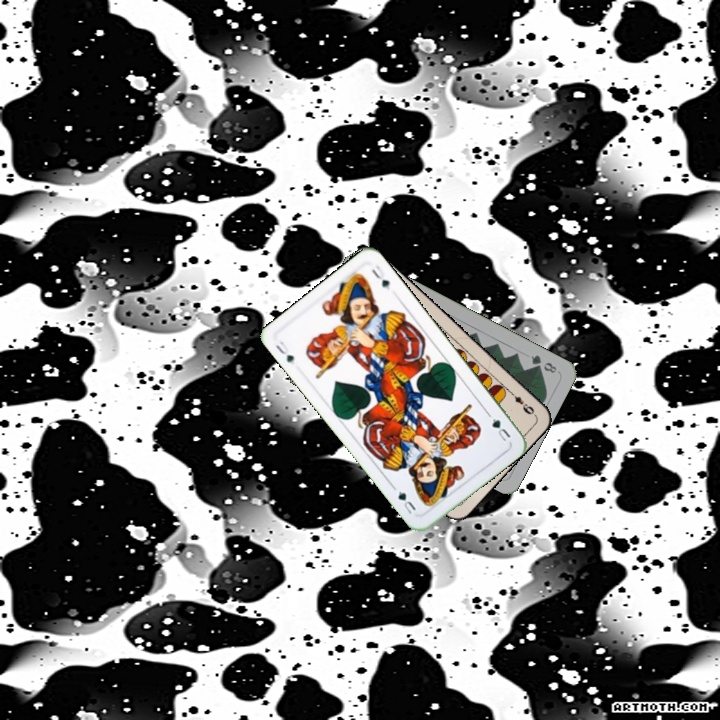E9: (505, 386, 537, 417)
G8: (527, 351, 560, 376)
GU: (487, 414, 513, 444), (272, 337, 297, 367)
